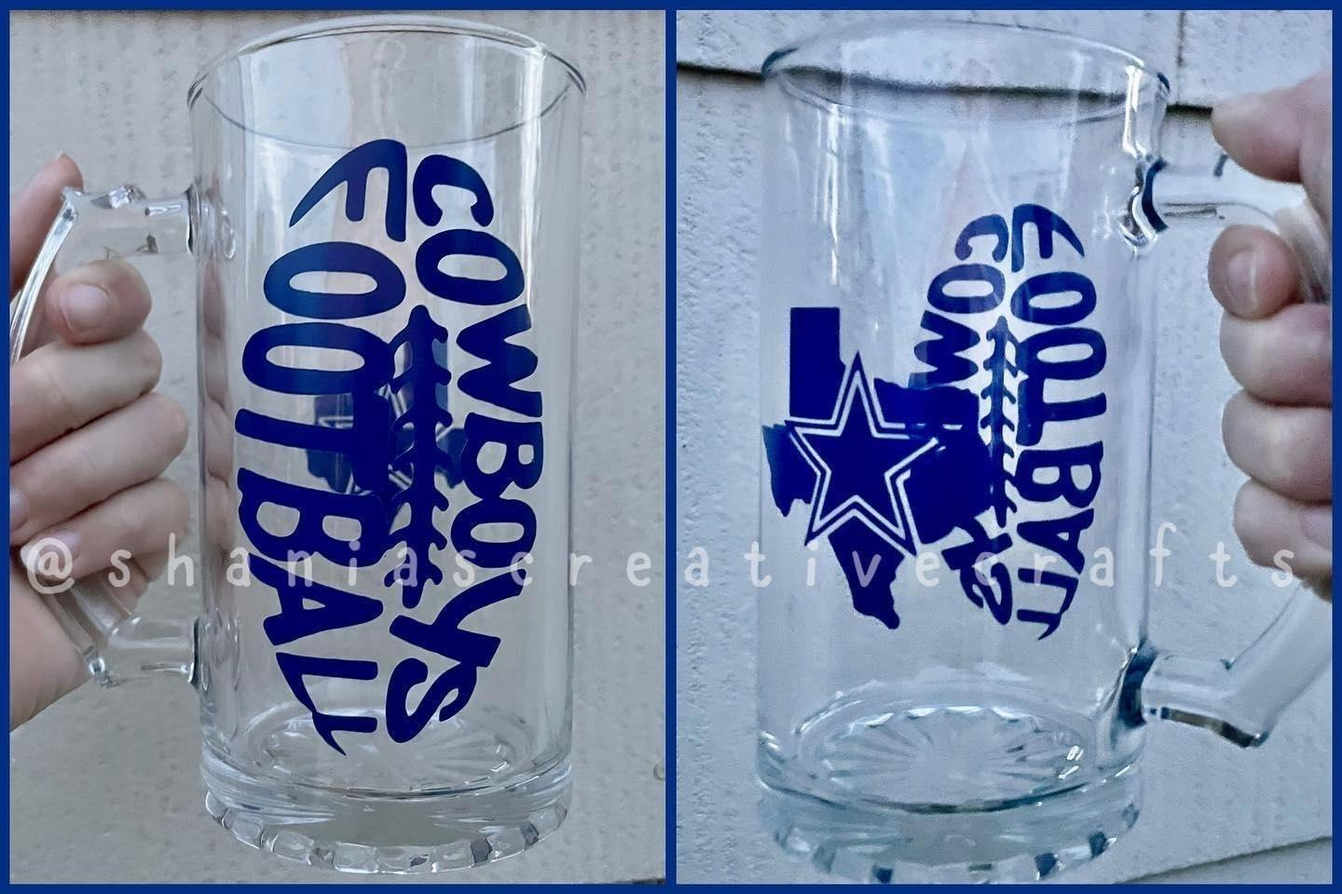glass-mug: (738, 20, 1330, 862), (25, 14, 598, 882)
